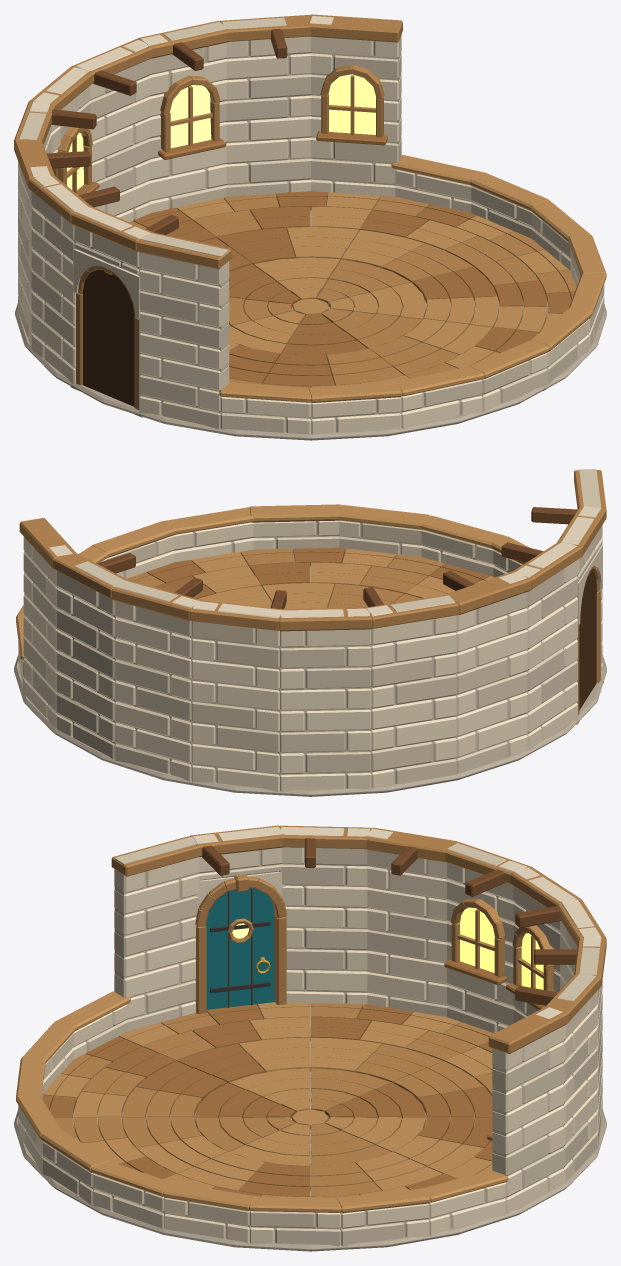
File: round_cottage_t2_interior.glb
The picture shows the model from 3 angles, top to bottom: view 1: azimuth 30°, elevation 25°; view 2: azimuth 150°, elevation 25°; view 3: azimuth 270°, elevation 25°; orthographic projection.
Parts seen in each view (by area): view 1: round_cottage_t2_interior; view 2: round_cottage_t2_interior; view 3: round_cottage_t2_interior, part_door_leaf.
Part boxes in pixels (x1,y1,x2,y2): round_cottage_t2_interior: [14, 14, 606, 440]; round_cottage_t2_interior: [14, 469, 606, 796]; round_cottage_t2_interior: [14, 825, 606, 1251]; part_door_leaf: [206, 888, 274, 1009].
Bounding box in the file's own units: 6.37 × 2.11 × 6.37.
